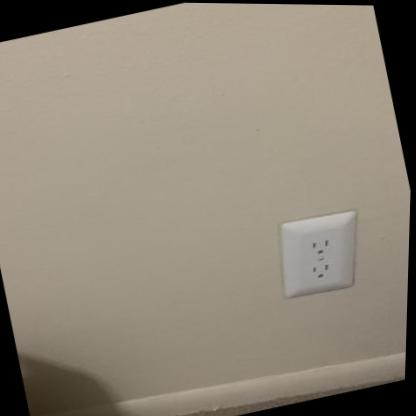OUTLET: (268, 206, 373, 302)
